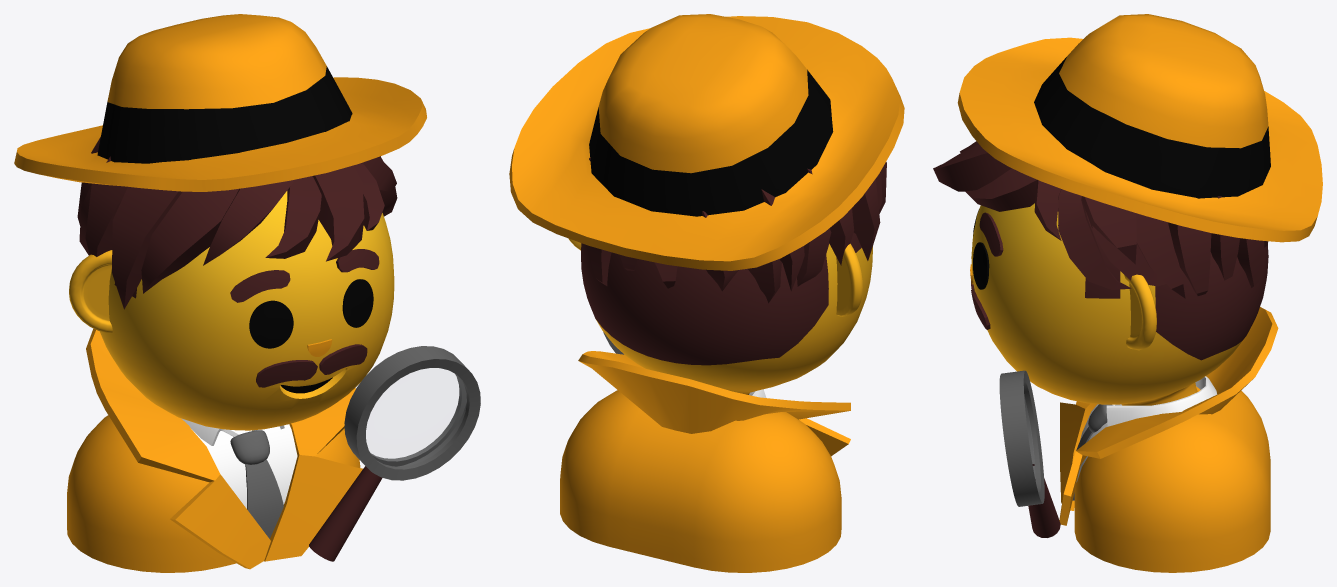
The model's file is man_detective.glb.
3 views of the same model, side by side, from view 1: azimuth 30°, elevation 25°; view 2: azimuth 150°, elevation 25°; view 3: azimuth 270°, elevation 25° (orthographic). The views are drawn at different scales.
Visible parts, largest first — view 1: Plane.081, Roundcube.148, Cube.1884, Plane.082, Sphere.119, Circle.794, Circle.790, Cylinder.122, Circle.795, Circle.793, Circle.792, Cube.1892; view 2: Plane.081, Sphere.119, Roundcube.148, Plane.082, Cube.1884, Cylinder.122; view 3: Plane.081, Roundcube.148, Sphere.119, Cube.1884, Plane.082, Circle.794, Cylinder.122, Plane.079, Circle.790, Circle.792.
Part boxes in pixels (left/top/right/bottom): Plane.081: left=14, top=14, right=426, bottom=191; Roundcube.148: left=99, top=191, right=394, bottom=430; Cube.1884: left=77, top=136, right=397, bottom=309; Plane.082: left=86, top=328, right=362, bottom=569; Sphere.119: left=67, top=415, right=360, bottom=572; Circle.794: left=309, top=346, right=480, bottom=561; Circle.790: left=249, top=279, right=373, bottom=348; Cylinder.122: left=69, top=250, right=112, bottom=333; Circle.795: left=256, top=344, right=367, bottom=387; Circle.793: left=245, top=459, right=283, bottom=538; Circle.792: left=230, top=249, right=379, bottom=302; Cube.1892: left=230, top=430, right=269, bottom=464; Plane.081: left=509, top=14, right=904, bottom=270; Sphere.119: left=560, top=390, right=841, bottom=572; Roundcube.148: left=581, top=232, right=872, bottom=394; Plane.082: left=578, top=351, right=850, bottom=456; Cube.1884: left=586, top=157, right=886, bottom=303; Cylinder.122: left=568, top=238, right=862, bottom=316; Plane.081: left=957, top=14, right=1322, bottom=242; Roundcube.148: left=971, top=203, right=1268, bottom=405; Sphere.119: left=1074, top=386, right=1270, bottom=572; Cube.1884: left=933, top=141, right=1268, bottom=298; Plane.082: left=1059, top=307, right=1278, bottom=525; Circle.794: left=999, top=370, right=1060, bottom=537; Cylinder.122: left=1124, top=274, right=1156, bottom=350; Plane.079: left=1106, top=376, right=1217, bottom=426; Circle.790: left=973, top=209, right=989, bottom=289; Circle.792: left=979, top=212, right=1003, bottom=256.
Size of the model in its own units: 1.98 by 2.71 by 1.99.
3 materials, 2 textured.
